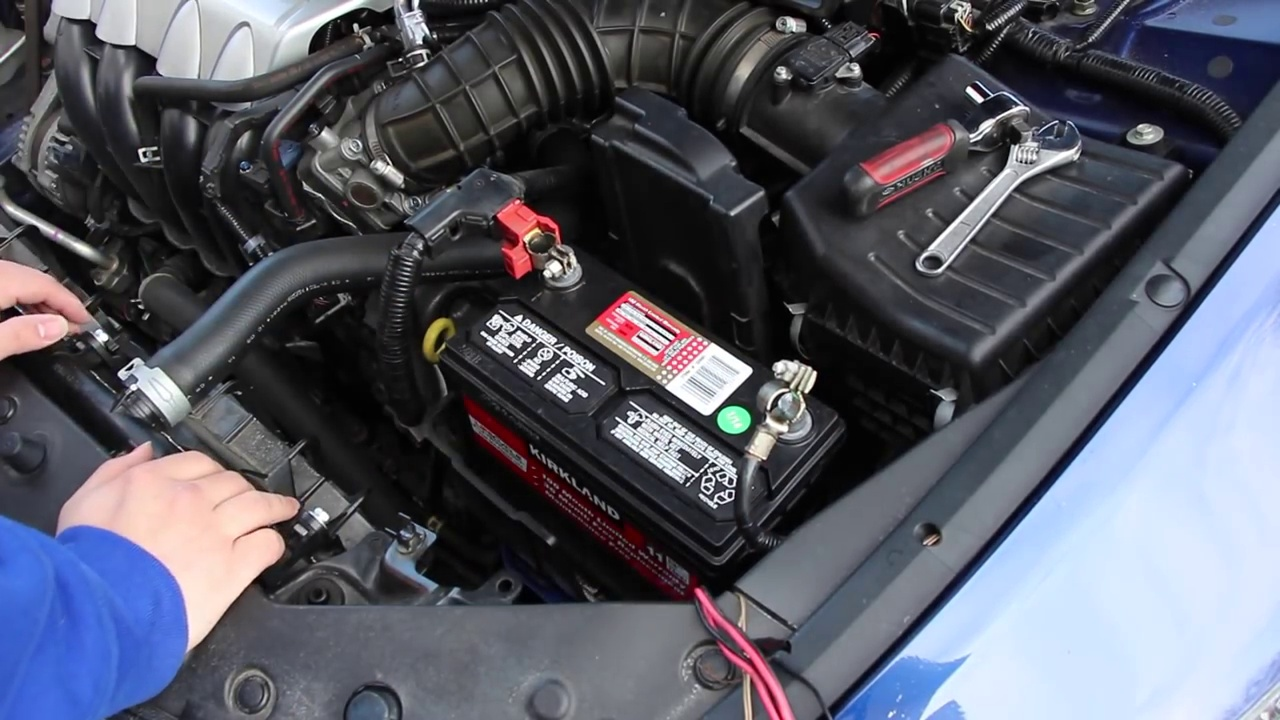battery: (456, 226, 840, 571)
neg_disconnected: (736, 358, 817, 494)
pos_connected: (477, 185, 576, 305)
